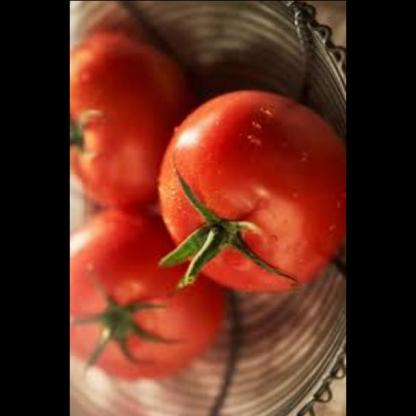tomato: (155, 88, 344, 298), (68, 207, 222, 376), (69, 26, 190, 212)
